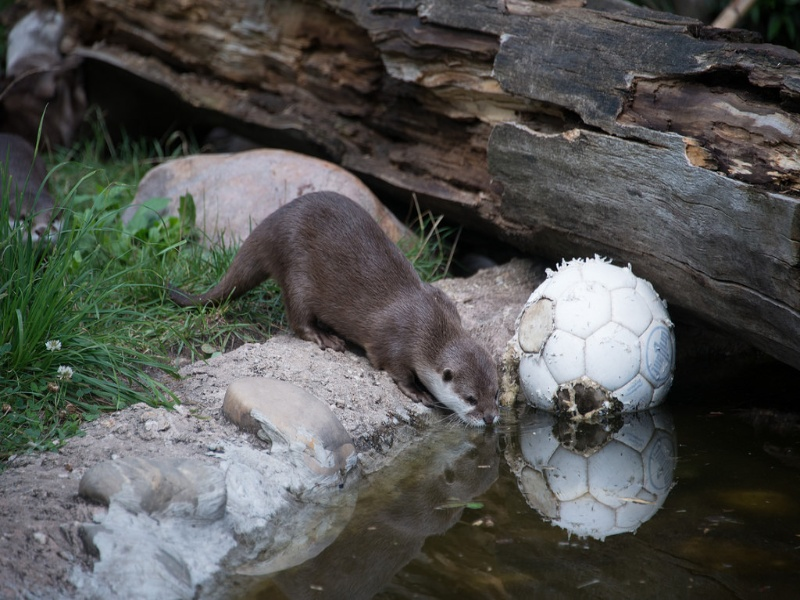minkish: (165, 193, 505, 439), (1, 121, 75, 254)
